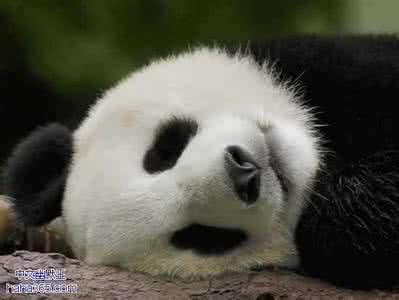panda: (2, 33, 399, 287)
